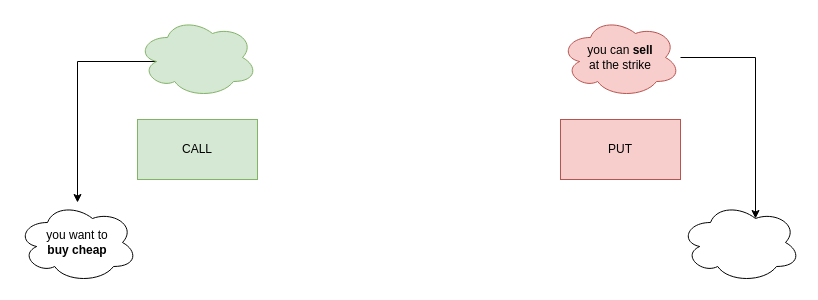
The diagram is 818 pixels wide and 300 high, and some of its shapes have lost their labels. The centre of each missing label's shape, as x and y in pixels:
"you can buy at the strike" belongs at pixel 197 57.
"you want to sell high" belongs at pixel 740 242.
